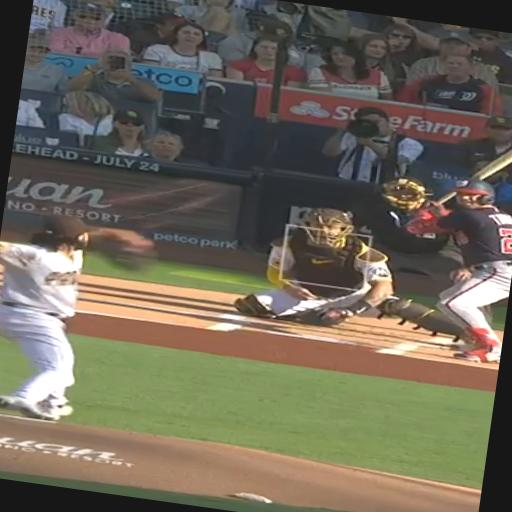bat: (471, 150, 511, 180)
